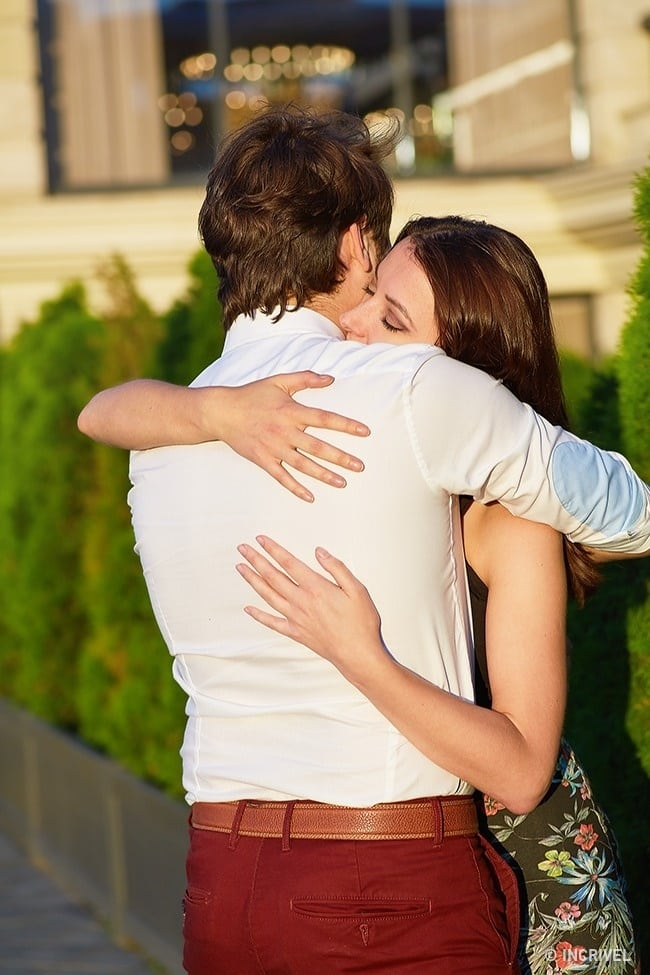Humano: (335, 197, 649, 975), (121, 99, 343, 975)
